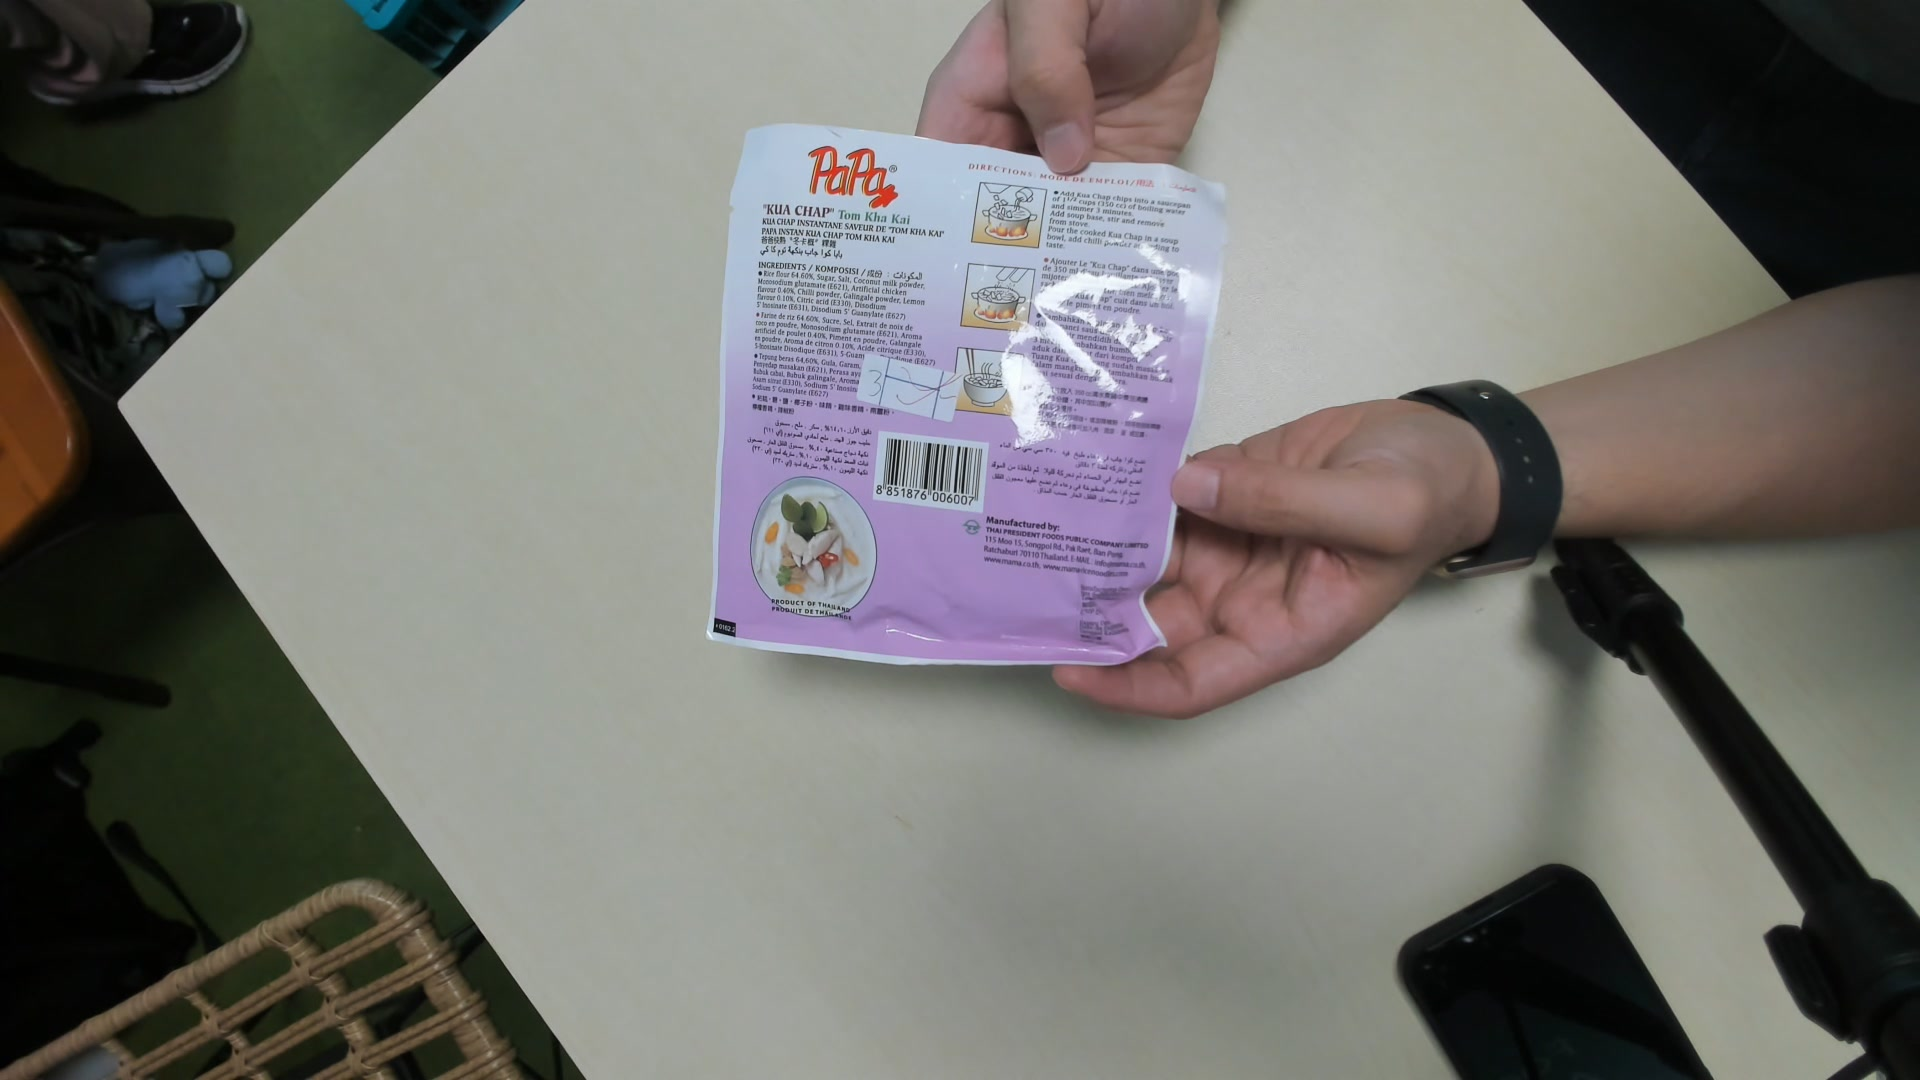OtherSauceDressing_0-99g_NonHalal_NonHealthy: (711, 119, 1224, 658)
